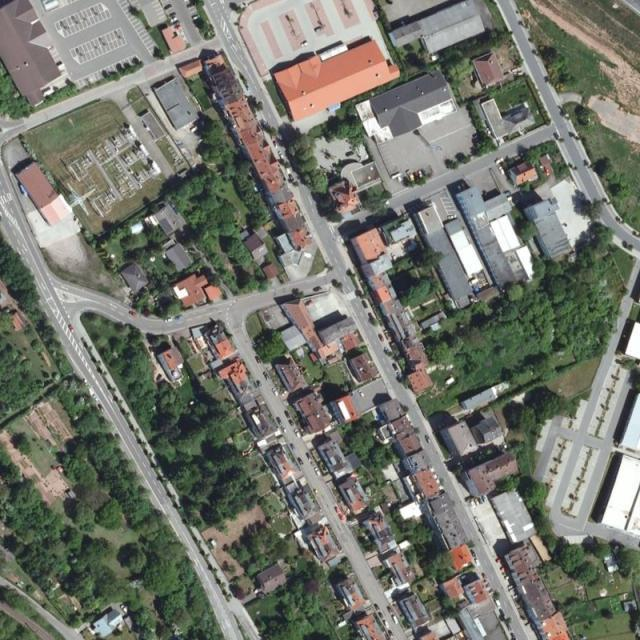vehicle: (392, 614, 400, 626), (383, 346, 392, 356), (271, 386, 279, 397), (314, 466, 322, 477), (263, 370, 270, 382), (164, 5, 174, 13), (186, 2, 196, 10), (128, 310, 138, 318), (304, 300, 314, 308), (383, 620, 391, 630), (97, 404, 105, 414), (361, 299, 369, 309), (254, 355, 262, 365), (294, 429, 302, 439), (396, 371, 403, 382), (469, 498, 476, 509), (494, 597, 501, 608), (358, 389, 366, 398), (306, 453, 314, 462), (170, 21, 180, 28), (172, 25, 182, 32), (192, 14, 202, 21), (314, 26, 324, 33), (278, 151, 285, 161), (374, 603, 381, 613), (392, 362, 399, 372), (276, 416, 283, 426), (468, 278, 478, 285), (407, 170, 414, 180), (498, 166, 505, 176), (386, 606, 394, 614), (378, 334, 386, 342), (338, 514, 346, 522), (345, 151, 354, 158), (388, 630, 395, 639), (256, 380, 263, 389), (284, 410, 291, 419), (290, 443, 297, 452), (297, 458, 304, 467), (313, 488, 320, 497), (495, 158, 504, 165), (300, 42, 310, 48), (447, 214, 457, 220), (391, 252, 397, 262), (92, 395, 99, 403), (281, 426, 288, 434), (334, 506, 341, 514), (545, 166, 550, 177), (169, 17, 178, 23), (426, 435, 432, 444), (68, 325, 74, 334), (378, 611, 384, 620), (289, 419, 295, 428), (478, 497, 484, 506), (313, 287, 323, 292), (168, 12, 176, 18), (175, 315, 183, 321), (474, 498, 480, 506), (164, 318, 173, 323), (502, 442, 508, 449), (274, 141, 279, 149), (482, 495, 487, 502)
